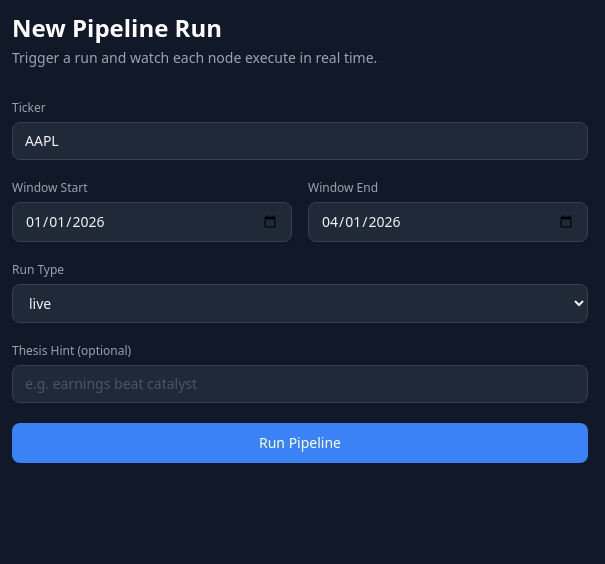
it: HomePage › shows validation error for too-short window
Type "2024-01-01" into the date field below "Window Start" at [152, 222], box 12,202 -> 292,242
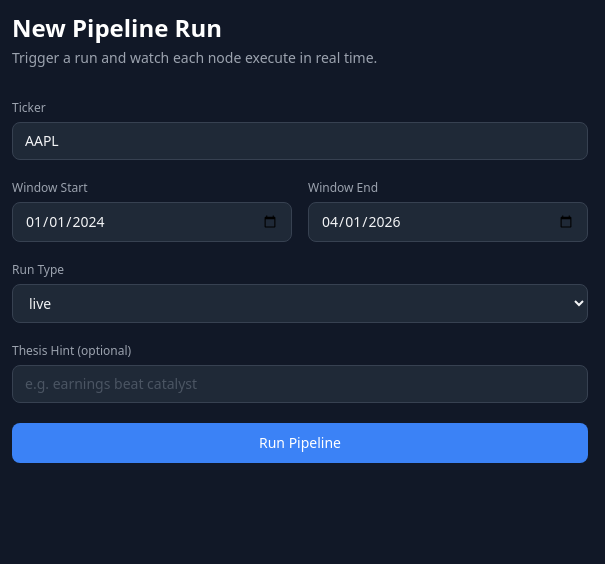
Type "2024-01-30" into the date field below "Window End" at [448, 222], box 308,202 -> 588,242
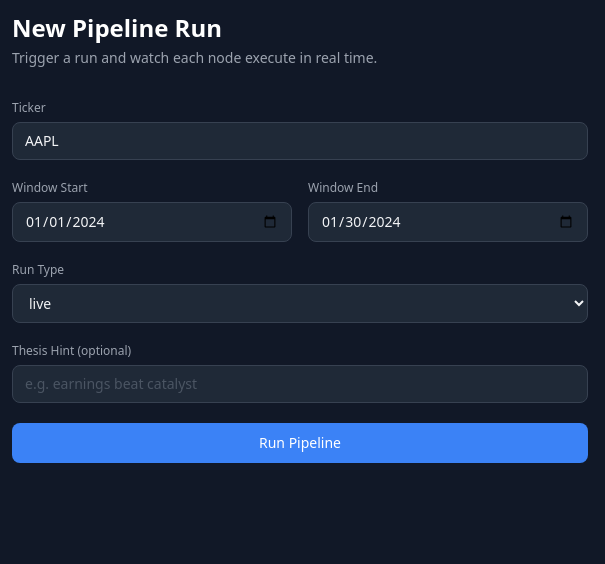
Click the button "Run Pipeline" at [300, 443], box 12,423 -> 588,463
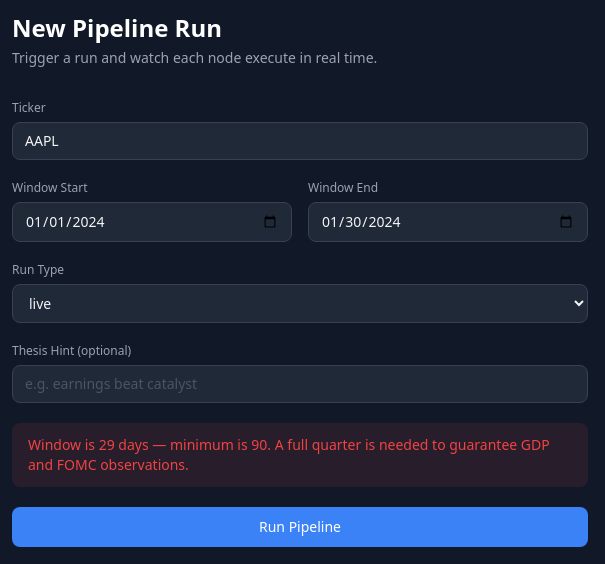
Result: the text "minimum is 90" is shown at 28,435 -> 550,474
